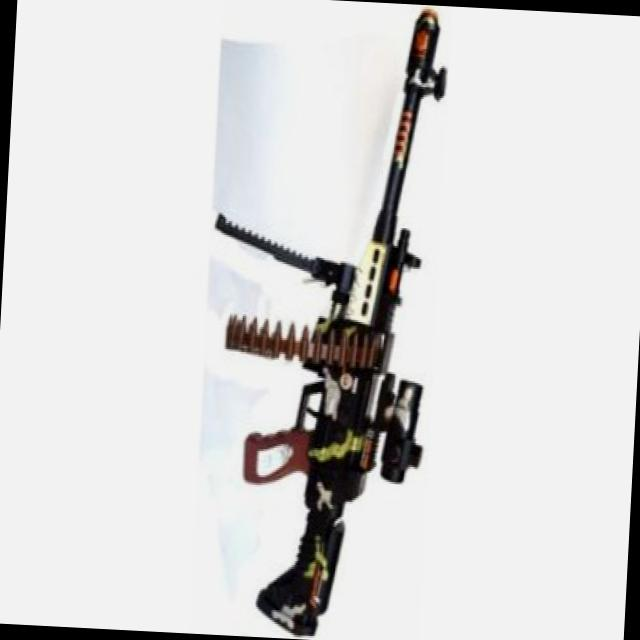long weapon: (194, 0, 484, 639)
